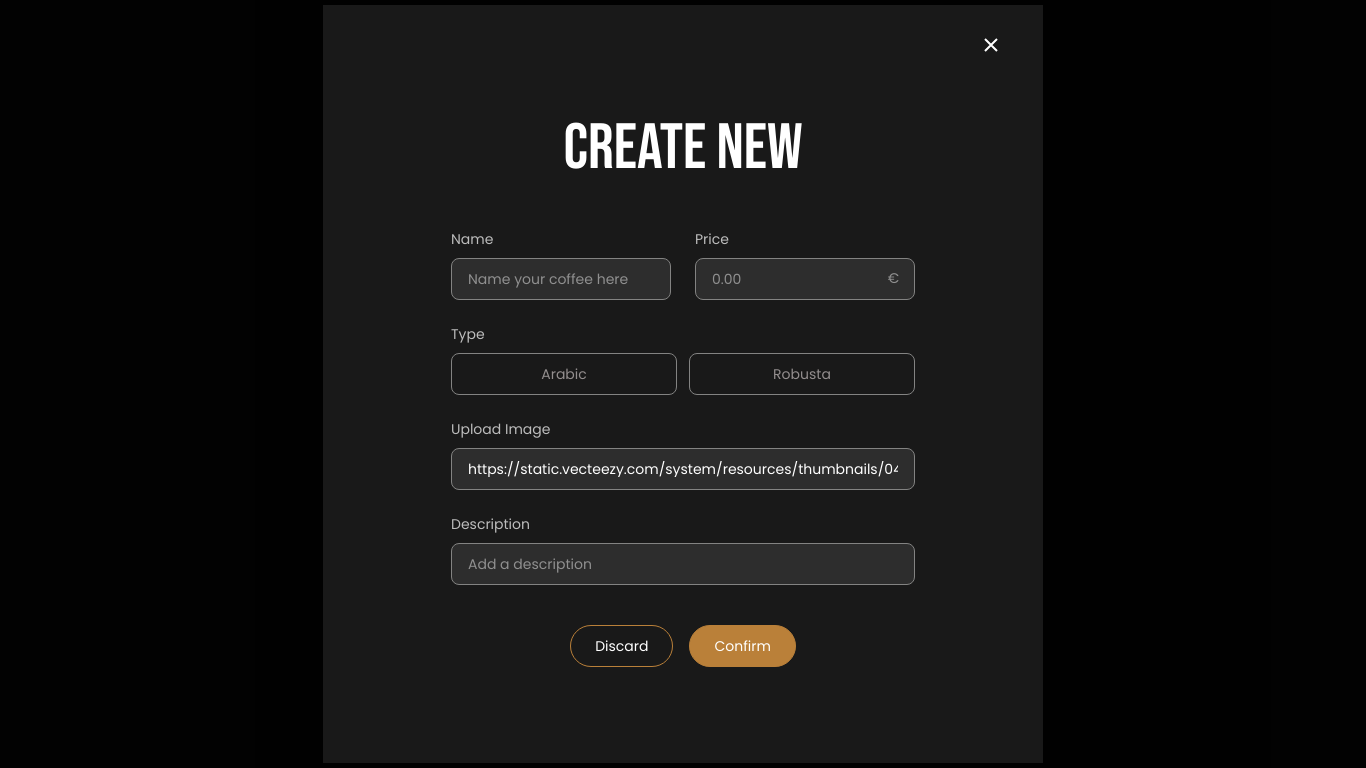
Test: Create Coffee Modal Integration › Validation Errors › should show error when description is empty
This screenshot has width=1366, height=768.
Type "Test Coffee" into the field labelled "Name" at point(561, 279), box [451,258,671,300]
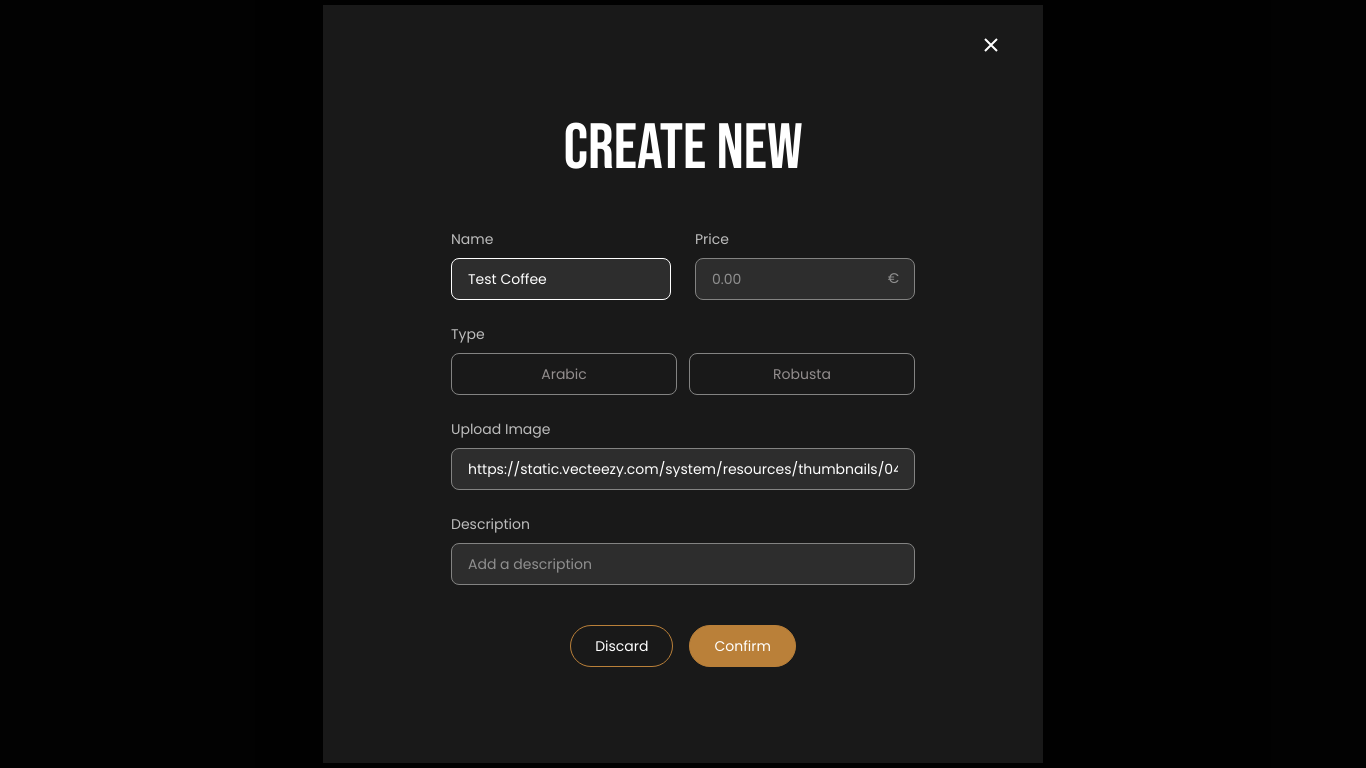
Type "10" into the field labelled "Price" at point(805, 279), box [695,258,915,300]
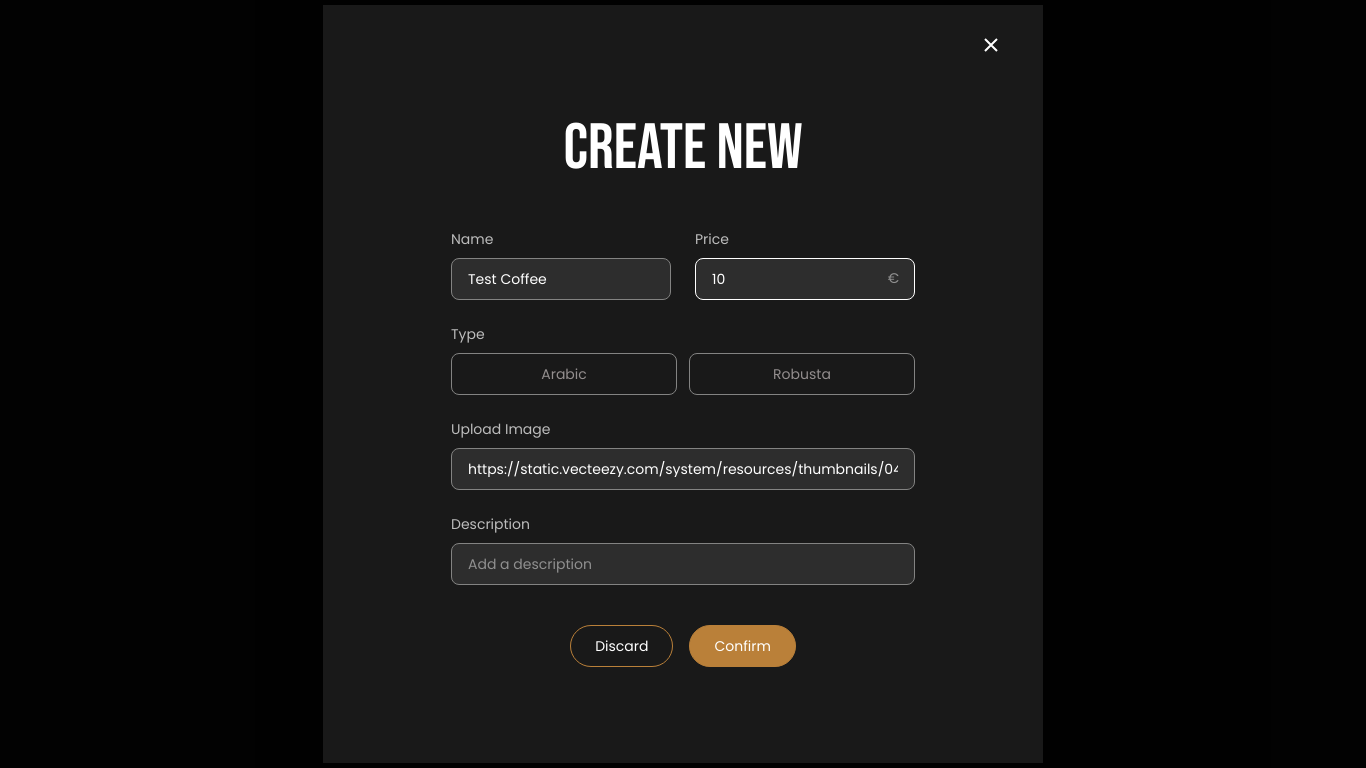
Click the button "Arabic" at point(564, 374), box [451,353,677,395]
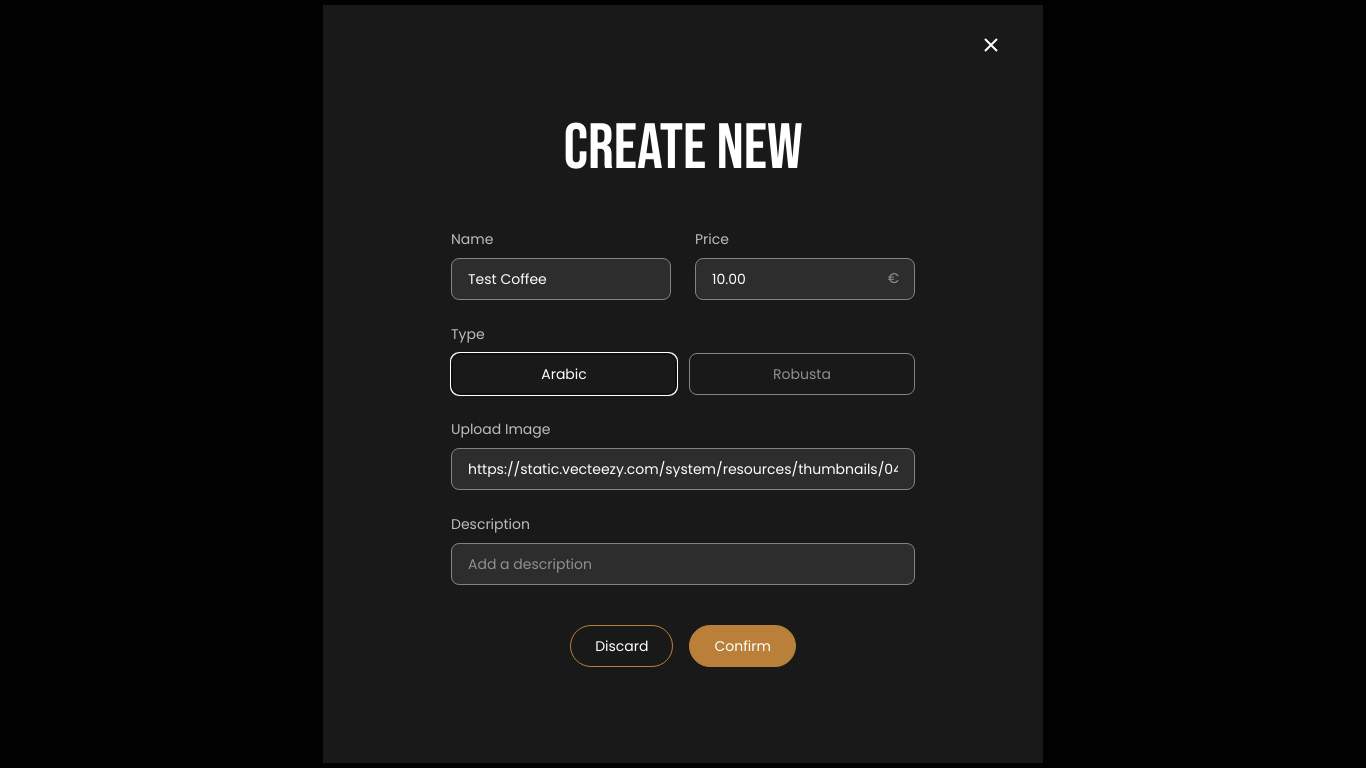
Click the button "Confirm" at point(743, 646), box [689,625,796,667]
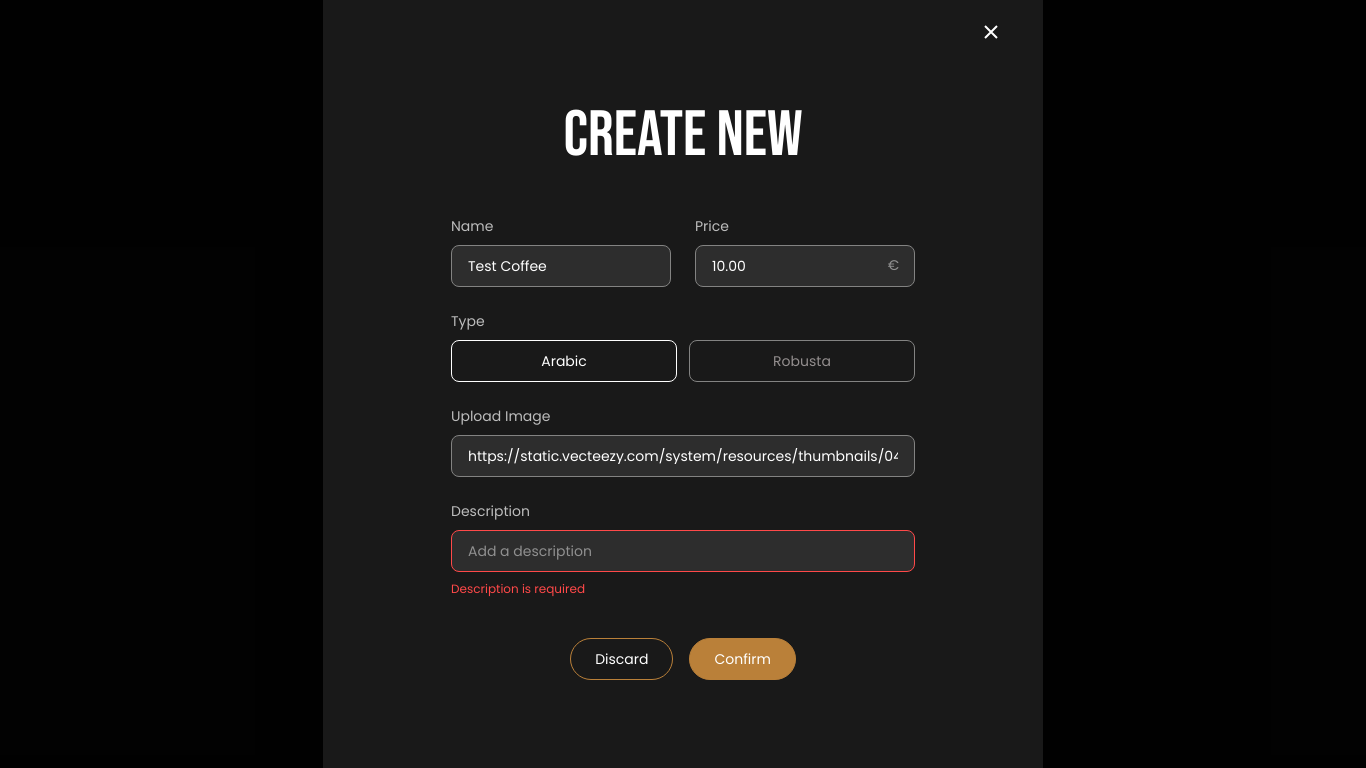
Expected: the text "Description is required" is shown, [451,580,585,597]
